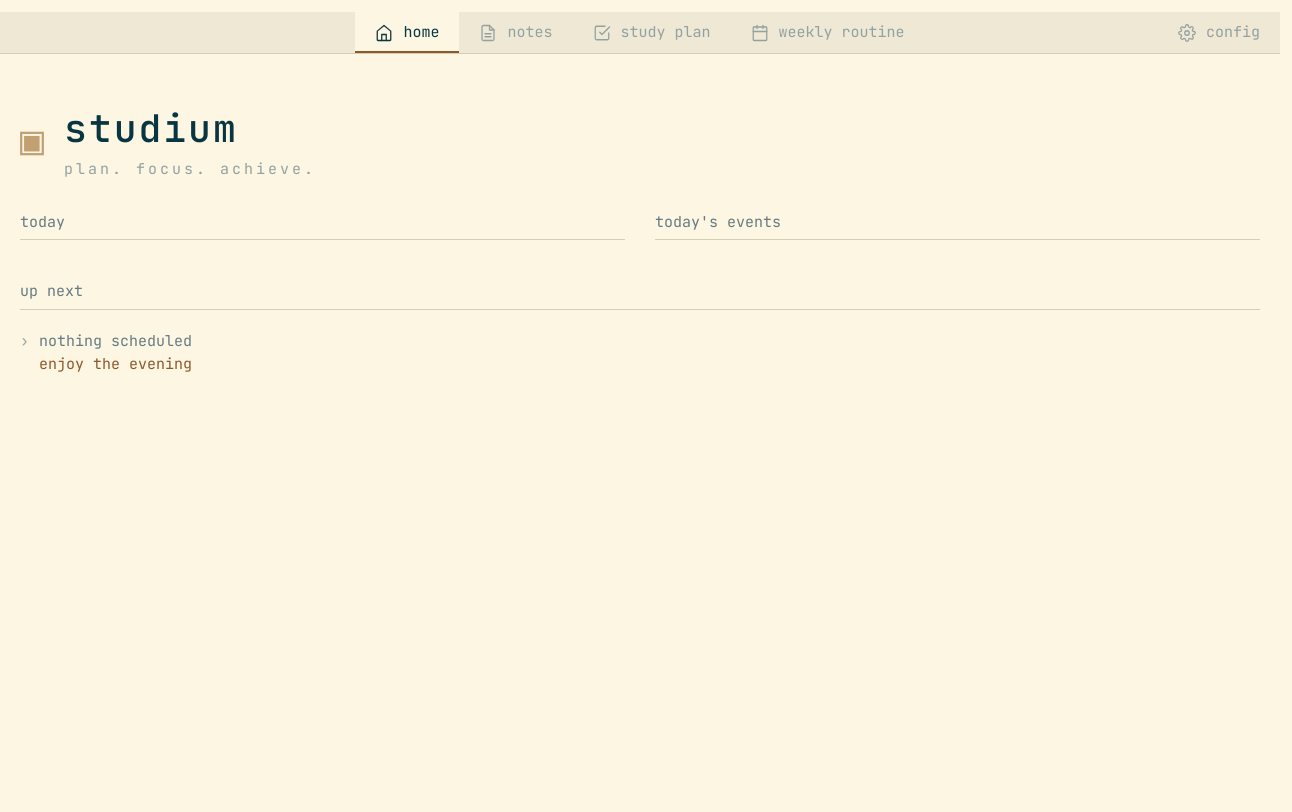
it: App › switches pages while a text input has focus
Type keys "{Alt>}2{/Alt}"
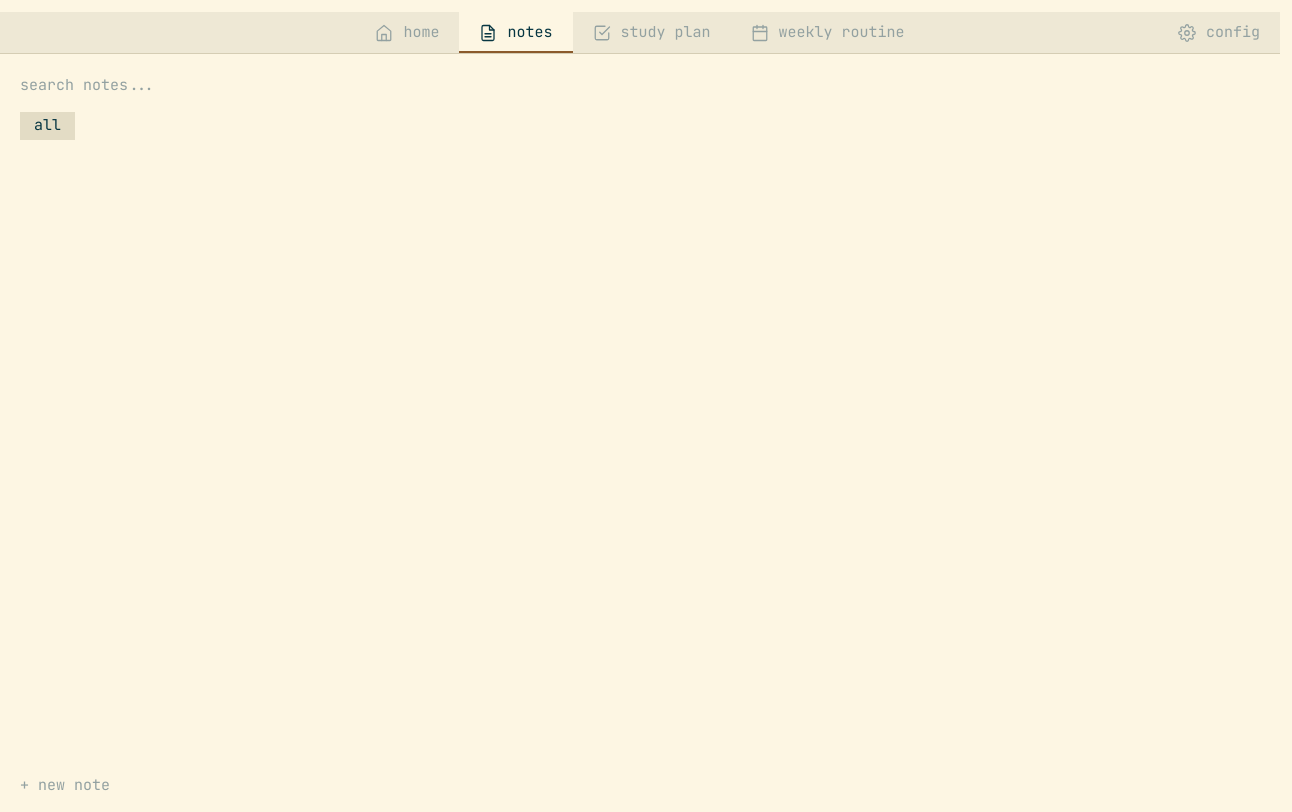
Click the field labelled "search notes".
click(640, 86)  # box [20,69,1260,102]
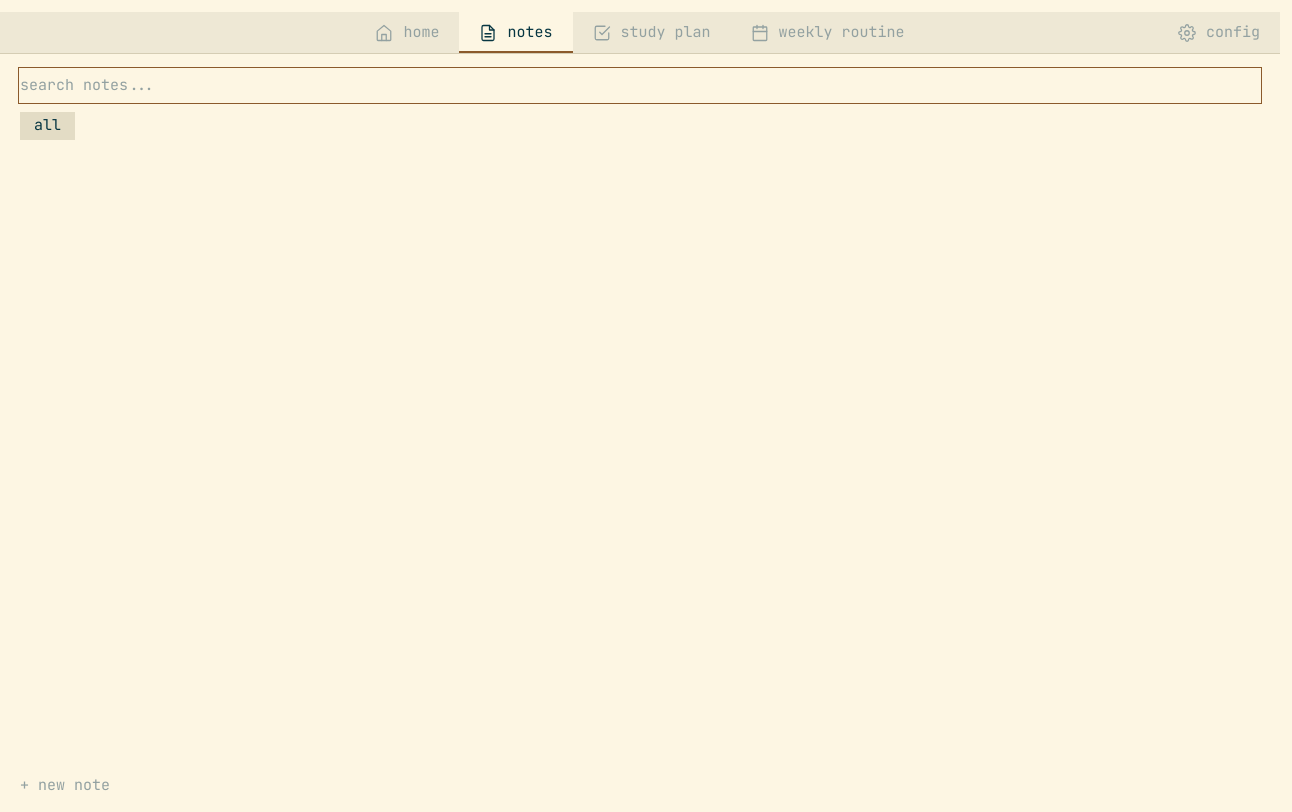
Type keys "{Alt>}3{/Alt}"
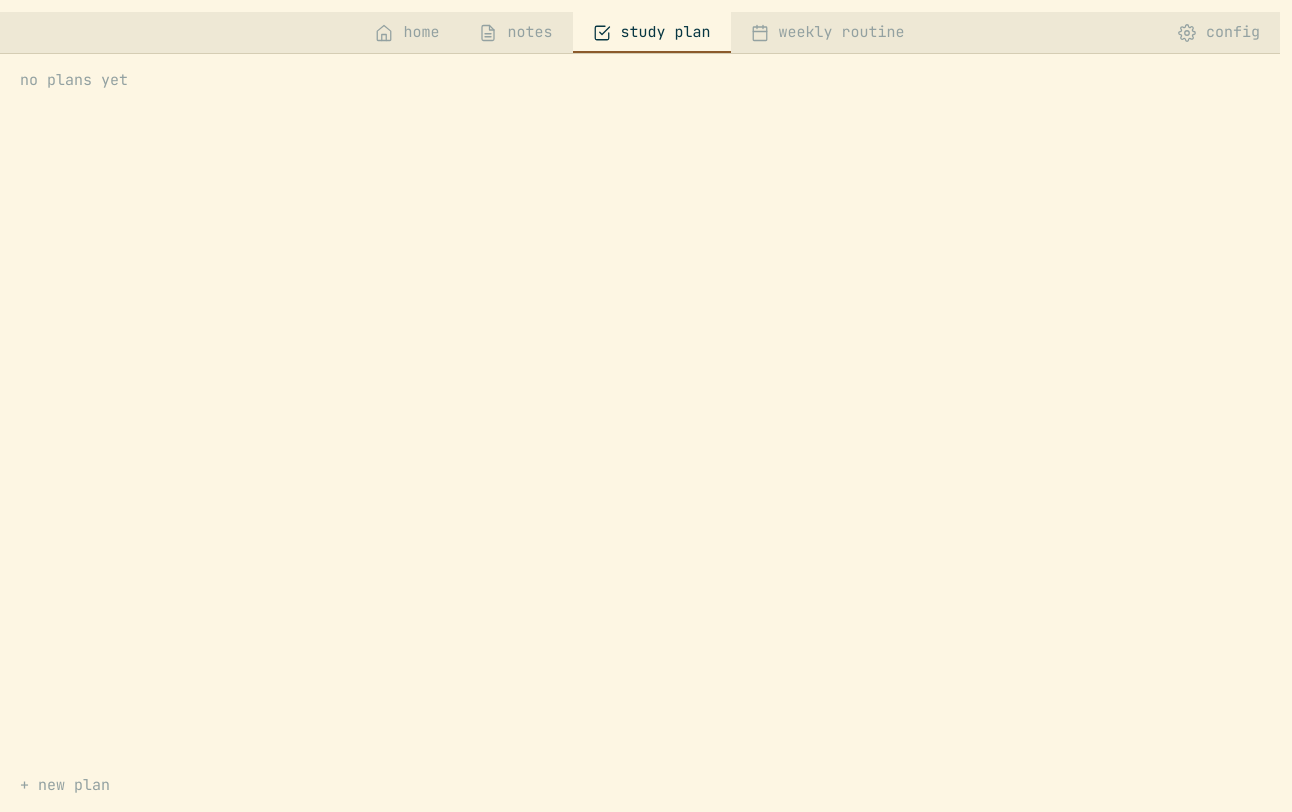
Expected: the element named "study plan" is shown
